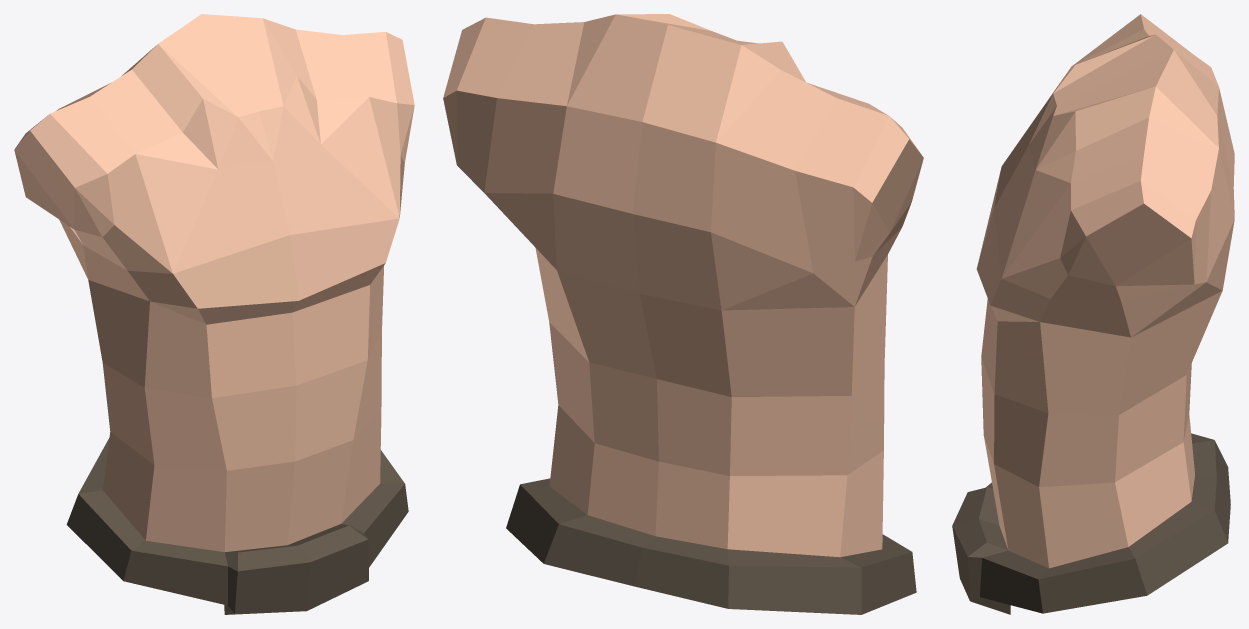
The model's file is Chr_Torso_Male_00_Static.fbx.
3 views of the same model, side by side, from view 1: azimuth 30°, elevation 25°; view 2: azimuth 150°, elevation 25°; view 3: azimuth 270°, elevation 25° (orthographic). The views are drawn at different scales.
Visible parts, largest first — view 1: Chr_Torso_Male_00_Static; view 2: Chr_Torso_Male_00_Static; view 3: Chr_Torso_Male_00_Static.
Boxes of the visible parts, x1,y1,x2,y2 form: Chr_Torso_Male_00_Static: [14, 14, 414, 614]; Chr_Torso_Male_00_Static: [443, 14, 923, 614]; Chr_Torso_Male_00_Static: [952, 14, 1234, 614].
Size of the model in its own units: 0.4944 by 0.6761 by 0.3196.
